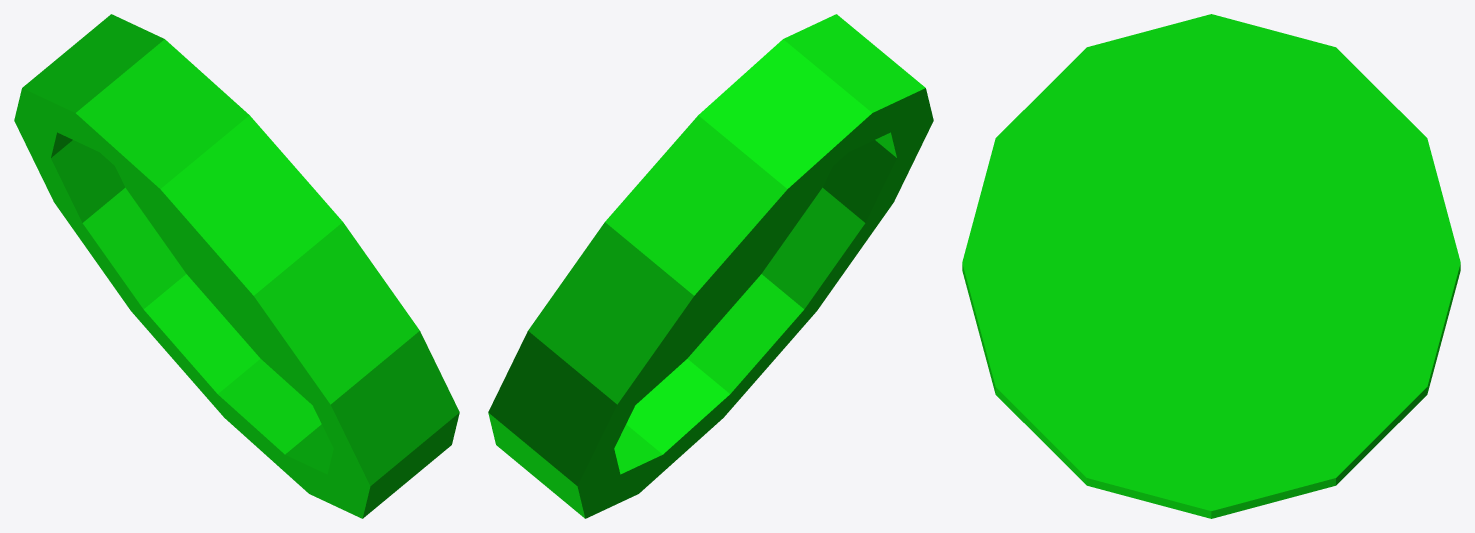
Rendered from outlet_main_r_2.glb.
The picture shows the model from 3 angles, left to right: view 1: azimuth 30°, elevation 25°; view 2: azimuth 150°, elevation 25°; view 3: azimuth 270°, elevation 25°; orthographic projection. The views are drawn at different scales.
Visible parts, largest first — view 1: Cylinder.084; view 2: Cylinder.084; view 3: Cylinder.084.
Boxes of the visible parts, x1,y1,x2,y2 form: Cylinder.084: (14,14,459,518); Cylinder.084: (488,14,933,518); Cylinder.084: (962,14,1460,518).
Size of the model in its own units: 0.1259 by 0.1825 by 0.1867.
